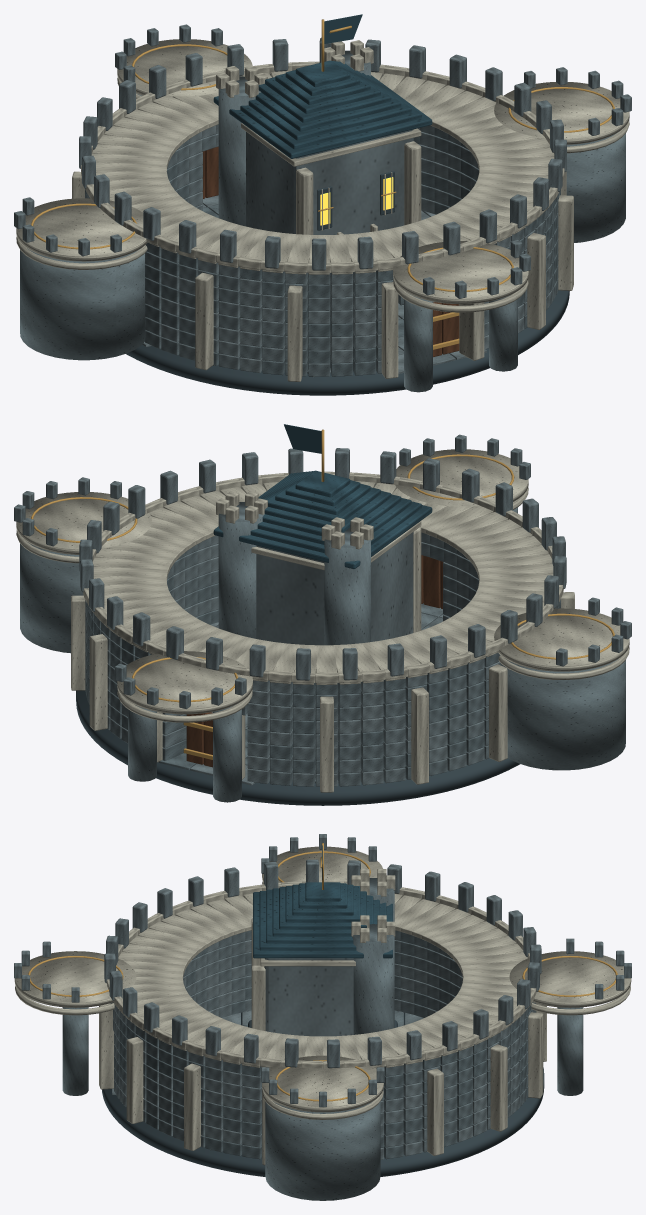
The model's file is castle-2.glb.
The picture shows the model from 3 angles, top to bottom: view 1: azimuth 30°, elevation 25°; view 2: azimuth 150°, elevation 25°; view 3: azimuth 270°, elevation 25°; orthographic projection. The views are drawn at different scales.
Visible parts, largest first — view 1: SouthWall_Carved limestone.001, RoyalKeep_Blue slate.001, Bastion_3_Weathered castle stone 1.001, EastWall_Carved limestone.001, WestWall_Carved limestone.001, RoyalKeep_Weathered castle stone 2.001, SouthWall_Weathered castle stone 2.001, CastleBase_Masonry recess.001, RoyalKeep_Carved limestone.001, WestWall_Weathered castle stone 2.001, Bastion_2_Carved limestone.001, Bastion_3_Carved limestone.001 (+27 smaller); view 2: WestWall_Carved limestone.001, NorthWall_Carved limestone.001, Bastion_3_Weathered castle stone 1.001, RoyalKeep_Blue slate.001, EastWall_Carved limestone.001, RoyalKeep_Weathered castle stone 2.001, RoyalKeep_Weathered castle stone 1.001, NorthWall_Weathered castle stone 2.001, WestWall_Weathered castle stone 2.001, CastleBase_Masonry recess.001, SouthWall_Carved limestone.001, Bastion_3_Carved limestone.001 (+25 smaller); view 3: NorthWall_Carved limestone.001, EastWall_Carved limestone.001, SouthWall_Carved limestone.001, Bastion_1_Weathered castle stone 1.001, RoyalKeep_Blue slate.001, EastWall_Weathered castle stone 2.001, RoyalKeep_Weathered castle stone 2.001, CastleBase_Masonry recess.001, WestWall_Carved limestone.001, WestWall_Weathered castle stone 2.001, Bastion_0_Carved limestone.001, Bastion_2_Carved limestone.001 (+24 smaller).
Boxes of the visible parts, bbox=[...] form: SouthWall_Carved limestone.001: bbox=[260, 185, 556, 381]; RoyalKeep_Blue slate.001: bbox=[213, 14, 432, 158]; Bastion_3_Weathered castle stone 1.001: bbox=[20, 248, 145, 360]; EastWall_Carved limestone.001: bbox=[379, 65, 573, 290]; WestWall_Carved limestone.001: bbox=[72, 144, 283, 370]; RoyalKeep_Weathered castle stone 2.001: bbox=[246, 129, 413, 234]; SouthWall_Weathered castle stone 2.001: bbox=[262, 177, 552, 373]; CastleBase_Masonry recess.001: bbox=[126, 290, 569, 395]; RoyalKeep_Carved limestone.001: bbox=[216, 40, 421, 234]; WestWall_Weathered castle stone 2.001: bbox=[79, 116, 262, 369]; Bastion_2_Carved limestone.001: bbox=[393, 241, 528, 312]; Bastion_3_Carved limestone.001: bbox=[16, 198, 147, 269]; WestWall_Carved limestone.001: bbox=[362, 548, 574, 784]; NorthWall_Carved limestone.001: bbox=[89, 595, 385, 792]; Bastion_3_Weathered castle stone 1.001: bbox=[501, 658, 625, 770]; RoyalKeep_Blue slate.001: bbox=[213, 424, 432, 568]; EastWall_Carved limestone.001: bbox=[71, 475, 266, 690]; RoyalKeep_Weathered castle stone 2.001: bbox=[256, 532, 413, 645]; RoyalKeep_Weathered castle stone 1.001: bbox=[218, 502, 370, 645]; NorthWall_Weathered castle stone 2.001: bbox=[89, 578, 383, 786]; WestWall_Weathered castle stone 2.001: bbox=[383, 536, 566, 783]; CastleBase_Masonry recess.001: bbox=[76, 690, 519, 805]; SouthWall_Carved limestone.001: bbox=[260, 471, 552, 565]; Bastion_3_Carved limestone.001: bbox=[494, 608, 629, 679]; NorthWall_Carved limestone.001: bbox=[421, 907, 546, 1131]; EastWall_Carved limestone.001: bbox=[169, 1018, 476, 1165]; SouthWall_Carved limestone.001: bbox=[99, 909, 224, 1123]; Bastion_1_Weathered castle stone 1.001: bbox=[265, 1101, 380, 1200]; RoyalKeep_Blue slate.001: bbox=[253, 845, 392, 958]; EastWall_Weathered castle stone 2.001: bbox=[172, 1015, 472, 1152]; RoyalKeep_Weathered castle stone 2.001: bbox=[264, 958, 353, 1036]; CastleBase_Masonry recess.001: bbox=[102, 1012, 544, 1176]; WestWall_Carved limestone.001: bbox=[172, 881, 475, 938]; WestWall_Weathered castle stone 2.001: bbox=[188, 859, 473, 1017]; Bastion_0_Carved limestone.001: bbox=[509, 951, 631, 1015]; Bastion_2_Carved limestone.001: bbox=[14, 951, 136, 1015].
Bounding box in the file's own units: 18.99 × 8.25 × 18.99.
10 materials, 7 textured.
